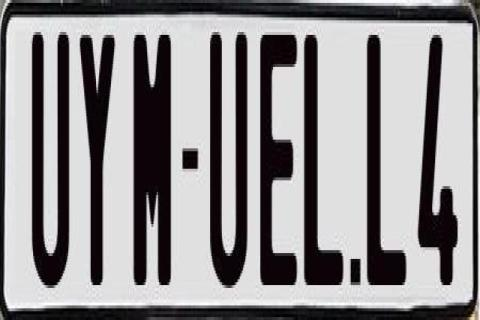0: (419, 35, 459, 294)
E: (260, 26, 298, 282)
L: (300, 32, 346, 285), (364, 29, 408, 288)
M: (130, 35, 174, 294)
U: (32, 32, 73, 302), (207, 29, 248, 299)
Y: (78, 35, 117, 294)
